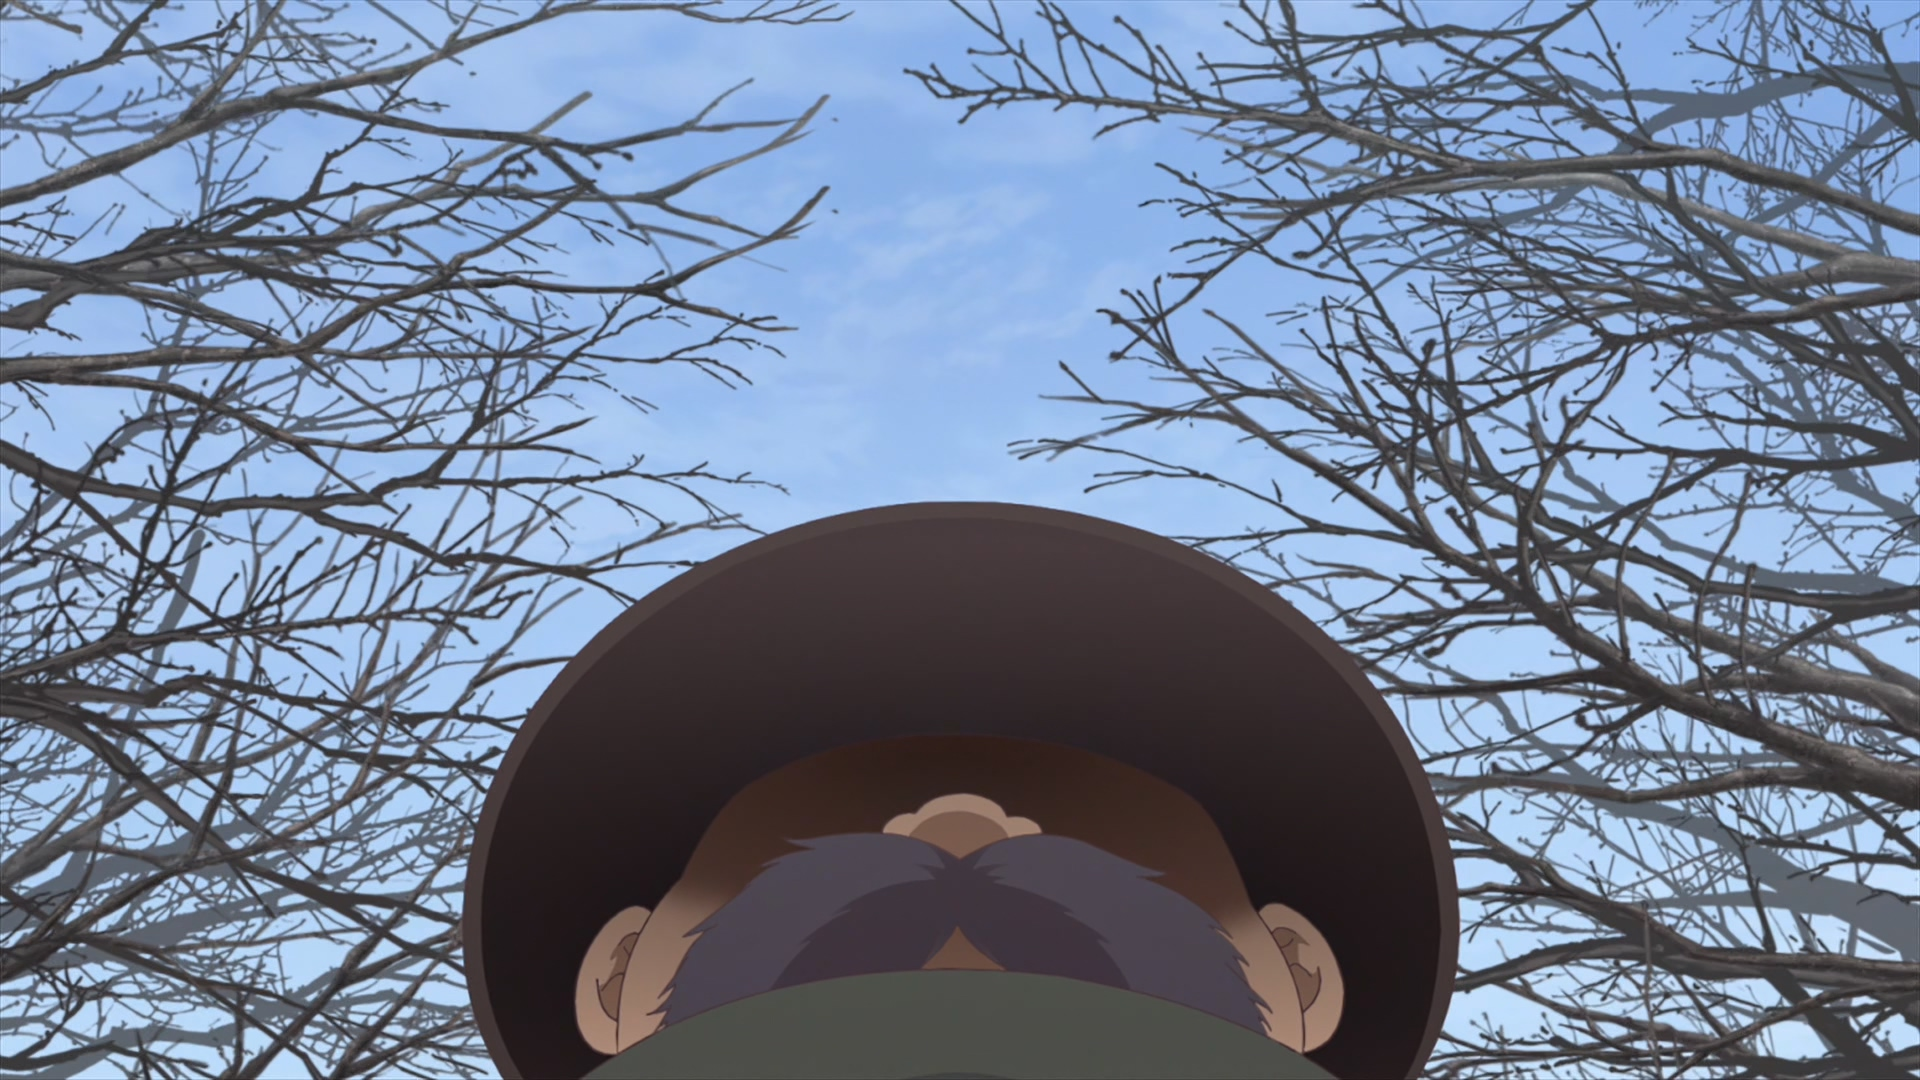其他: (460, 500, 1460, 1080)
